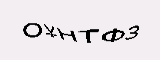З: (125, 20, 143, 42)
Н: (57, 19, 80, 43)
О: (21, 18, 43, 40)
Т: (79, 22, 101, 46)
Ф: (101, 22, 125, 46)
Ұ: (42, 18, 58, 39)
